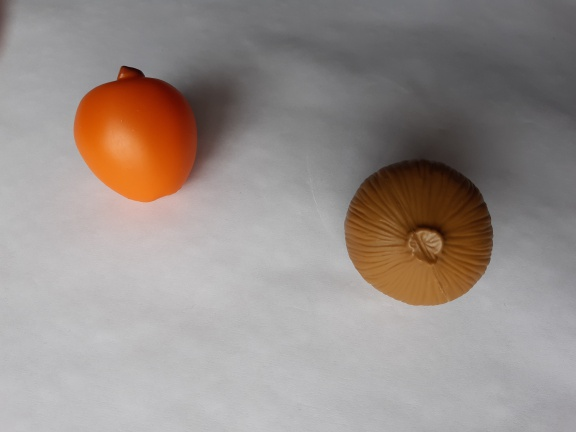apricot: (69, 45, 212, 213)
onion: (338, 156, 500, 316)
